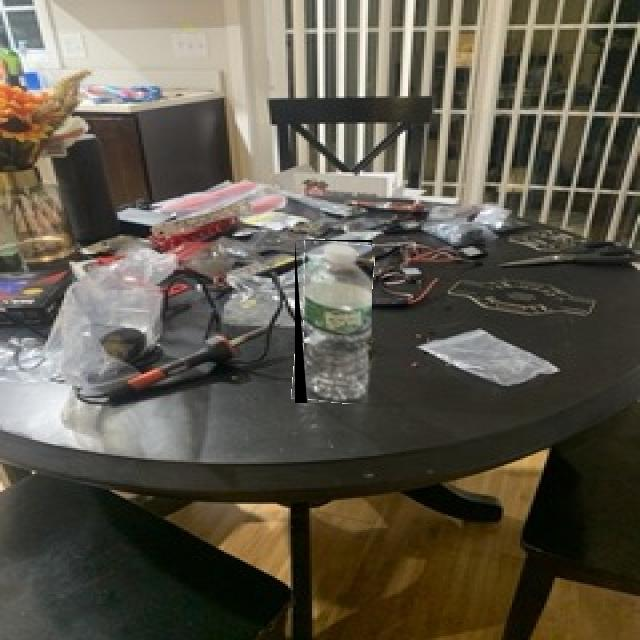water_bottle: (295, 240, 372, 403)
